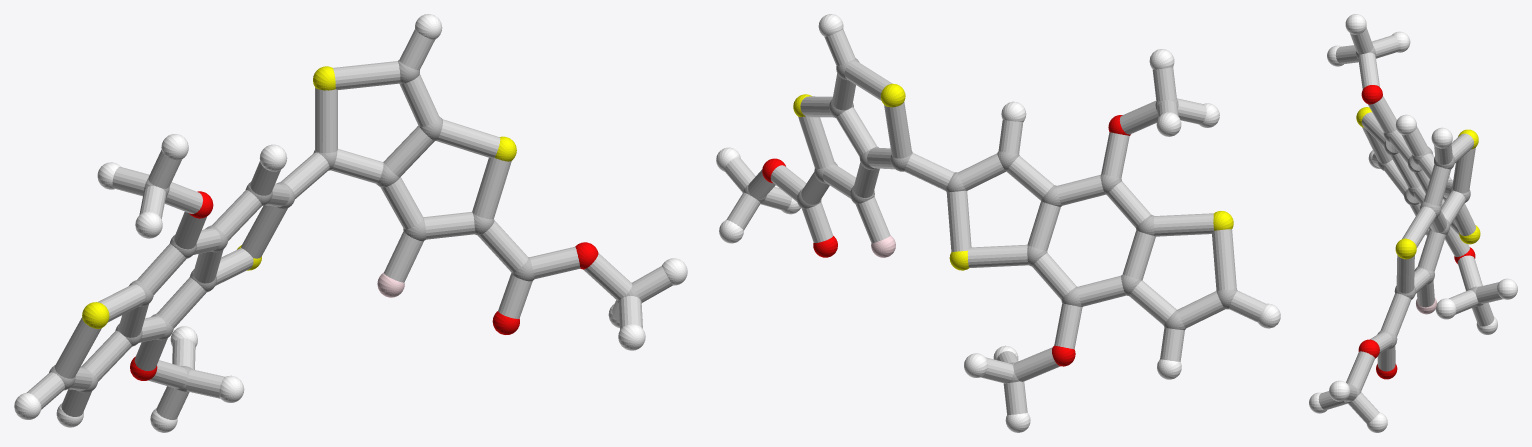
Rendered from color.glb.
The picture shows the model from 3 angles, left to right: view 1: azimuth 30°, elevation 25°; view 2: azimuth 150°, elevation 25°; view 3: azimuth 270°, elevation 25°; orthographic projection. The views are drawn at different scales.
Visible parts, largest first — view 1: grp15205, grp8689, grp1, grp7241, grp13395; view 2: grp15205, grp8689, grp1, grp7241, grp13395; view 3: grp15205, grp8689, grp1, grp13395, grp7241.
Boxes of the visible parts, x1=… form: grp15205: x1=26, y1=29, x2=672, y2=419; grp8689: x1=14, y1=14, x2=687, y2=432; grp1: x1=49, y1=60, x2=641, y2=392; grp7241: x1=82, y1=66, x2=516, y2=328; grp13395: x1=130, y1=191, x2=598, y2=380; grp15205: x1=724, y1=29, x2=1265, y2=414; grp8689: x1=716, y1=14, x2=1280, y2=432; grp1: x1=743, y1=58, x2=1237, y2=382; grp7241: x1=793, y1=83, x2=1233, y2=270; grp13395: x1=762, y1=115, x2=1130, y2=366; grp15205: x1=1318, y1=27, x2=1503, y2=423; grp8689: x1=1309, y1=14, x2=1517, y2=432; grp1: x1=1344, y1=46, x2=1483, y2=403; grp13395: x1=1358, y1=85, x2=1475, y2=379; grp7241: x1=1356, y1=107, x2=1480, y2=259.
Bounding box in the file's own units: 16.24 × 9.17 × 5.9.
